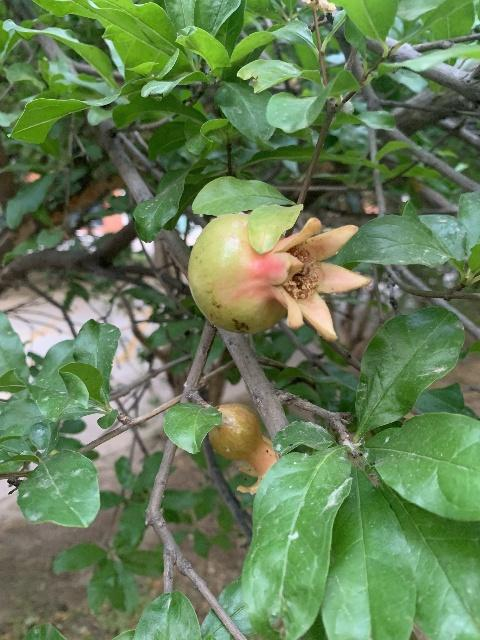early-fruit: (208, 403, 279, 497)
mid-growth: (187, 209, 371, 343)
